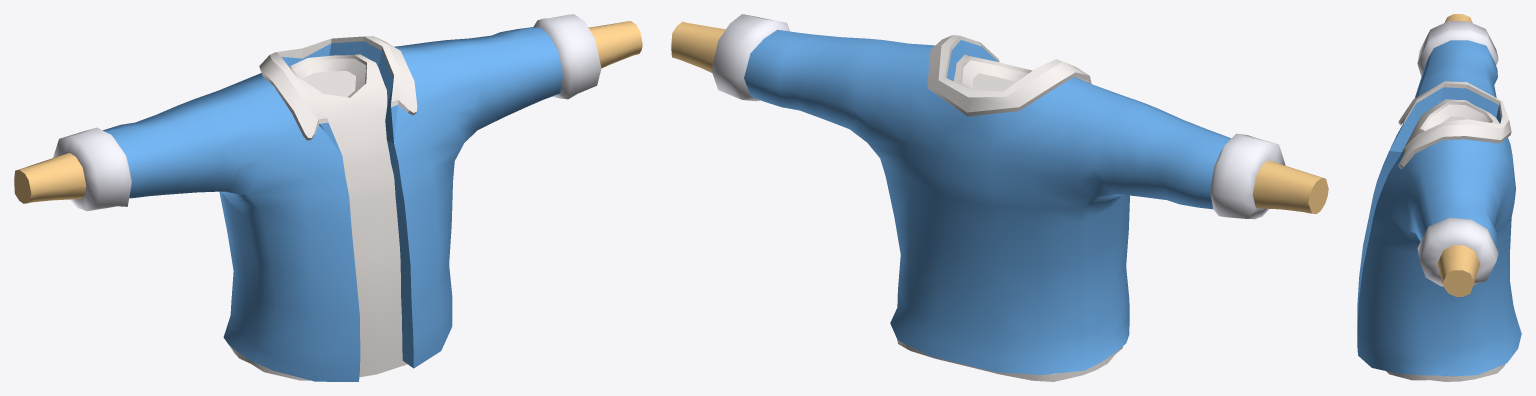
The model's file is Torso_03_01.fbx.
3 views of the same model, side by side, from view 1: azimuth 30°, elevation 25°; view 2: azimuth 150°, elevation 25°; view 3: azimuth 270°, elevation 25° (orthographic). The views are drawn at different scales.
Parts seen in each view (by area): view 1: Torso_03_01; view 2: Torso_03_01; view 3: Torso_03_01.
Boxes of the visible parts, bbox=[...] form: Torso_03_01: bbox=[14, 14, 642, 381]; Torso_03_01: bbox=[671, 14, 1328, 381]; Torso_03_01: bbox=[1357, 14, 1521, 381].
Size of the model in its own units: 118 by 53.04 by 31.99.
